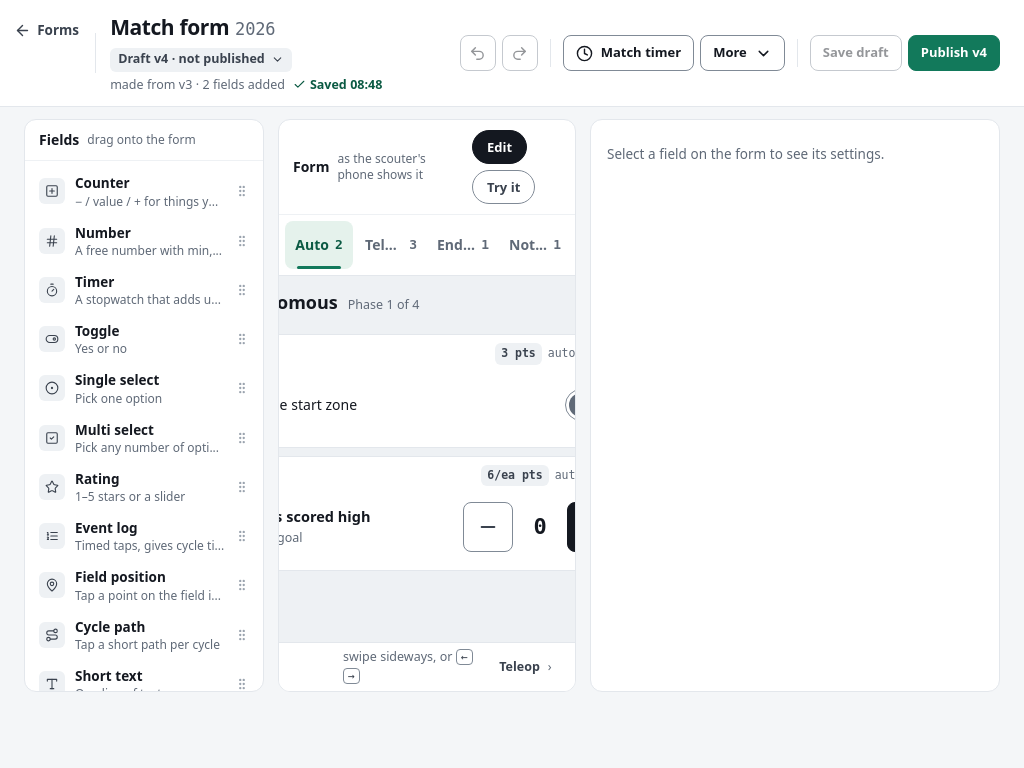
Test: BuilderPage: the three panes (task 1.29) › shows one phase at a time under the phase tabs, its fields under their section headings
The width and height of the screenshot is (1024, 768).
Expected: the element "Form" is shown, 278,119 -> 576,692
Expected: the text "Phase 1 of 4" is shown, 348,296 -> 420,315
Click the tab "Teleop 3". click: [391, 245]
box: 357,221 -> 425,269
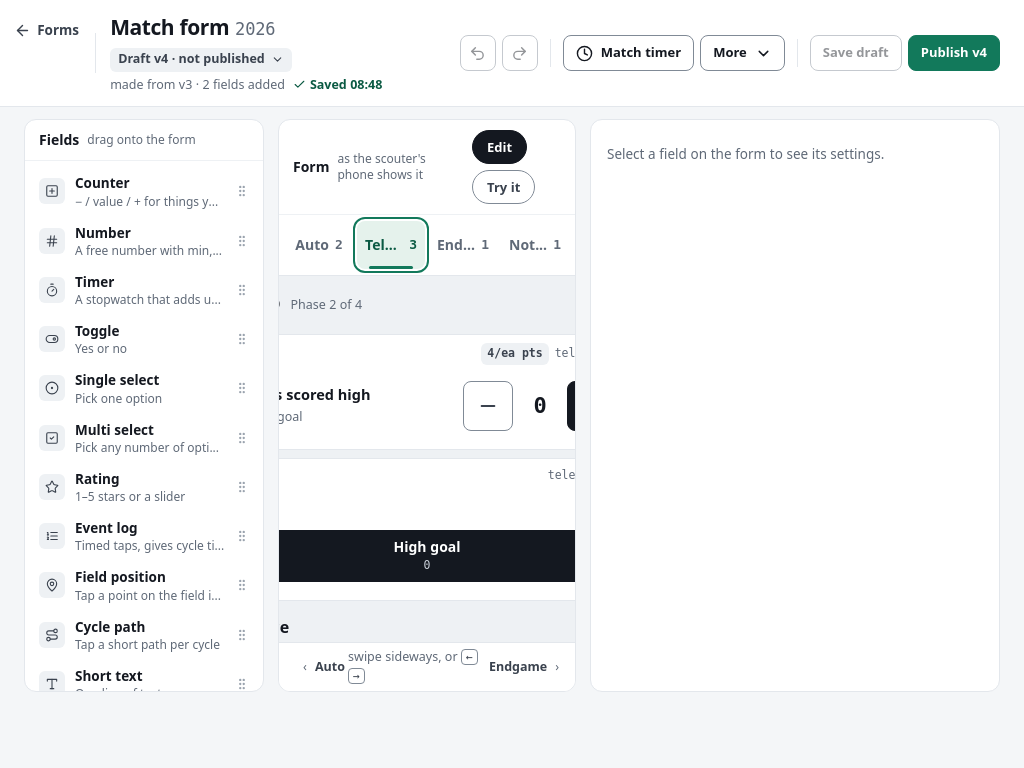
Expected: the text "Phase 2 of 4" is shown, 290,296 -> 362,315
Expected: the text "auto_high" is gone
Expected: the button with aria-label "High goal, 0 taps" is shown, 279,530 -> 575,582
